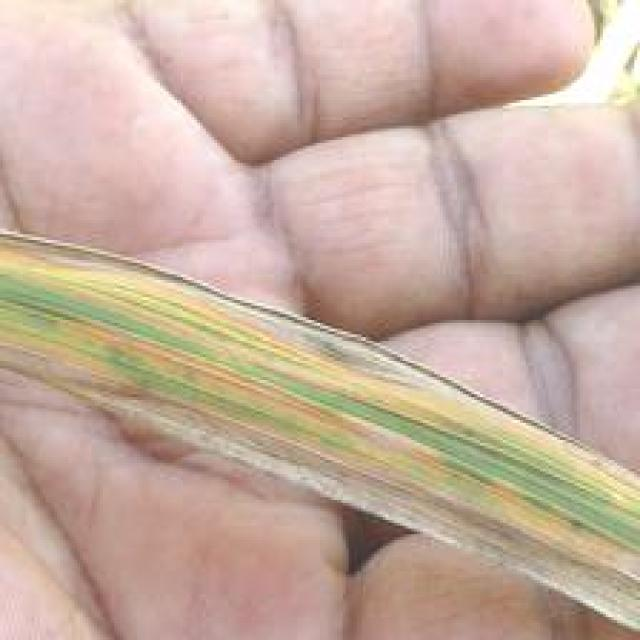Bacterial_Leaf_Blight: (17, 228, 597, 568)
